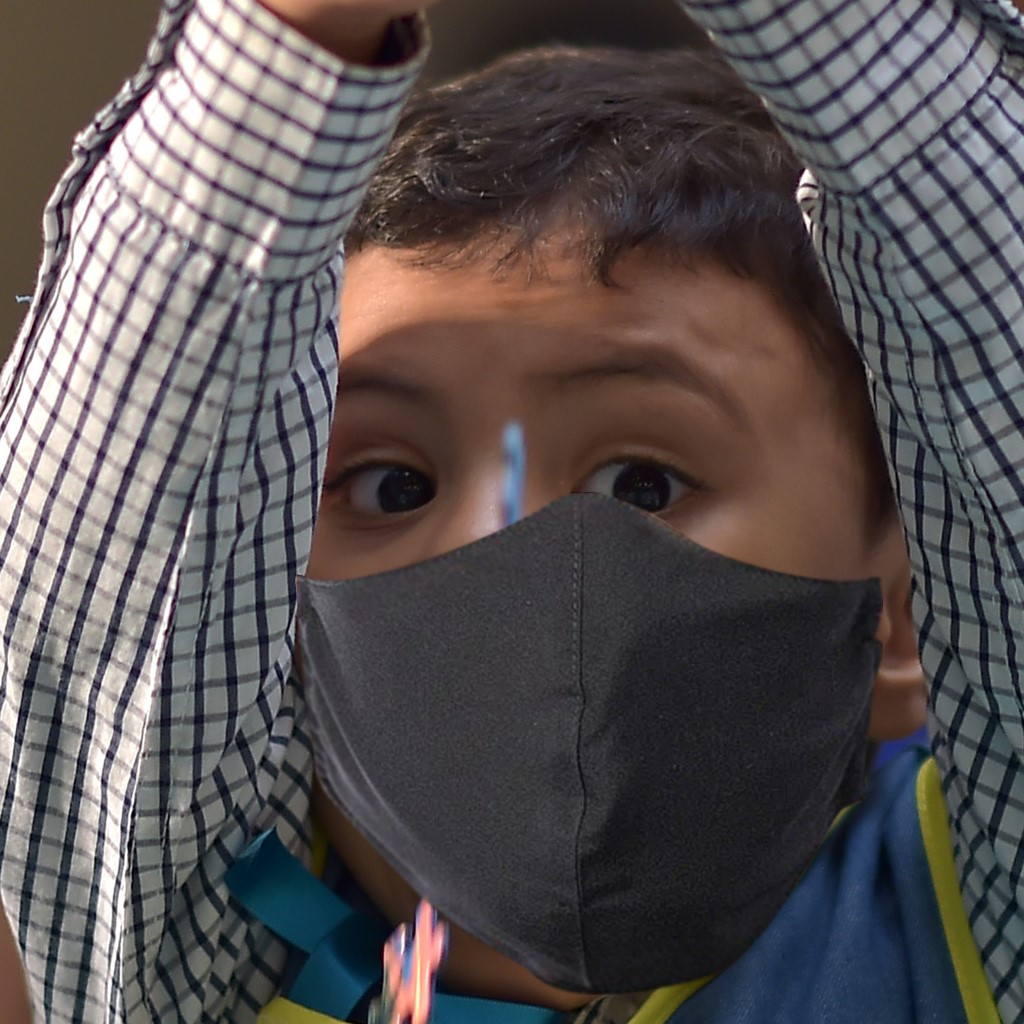con_mascara: (299, 220, 890, 957)
